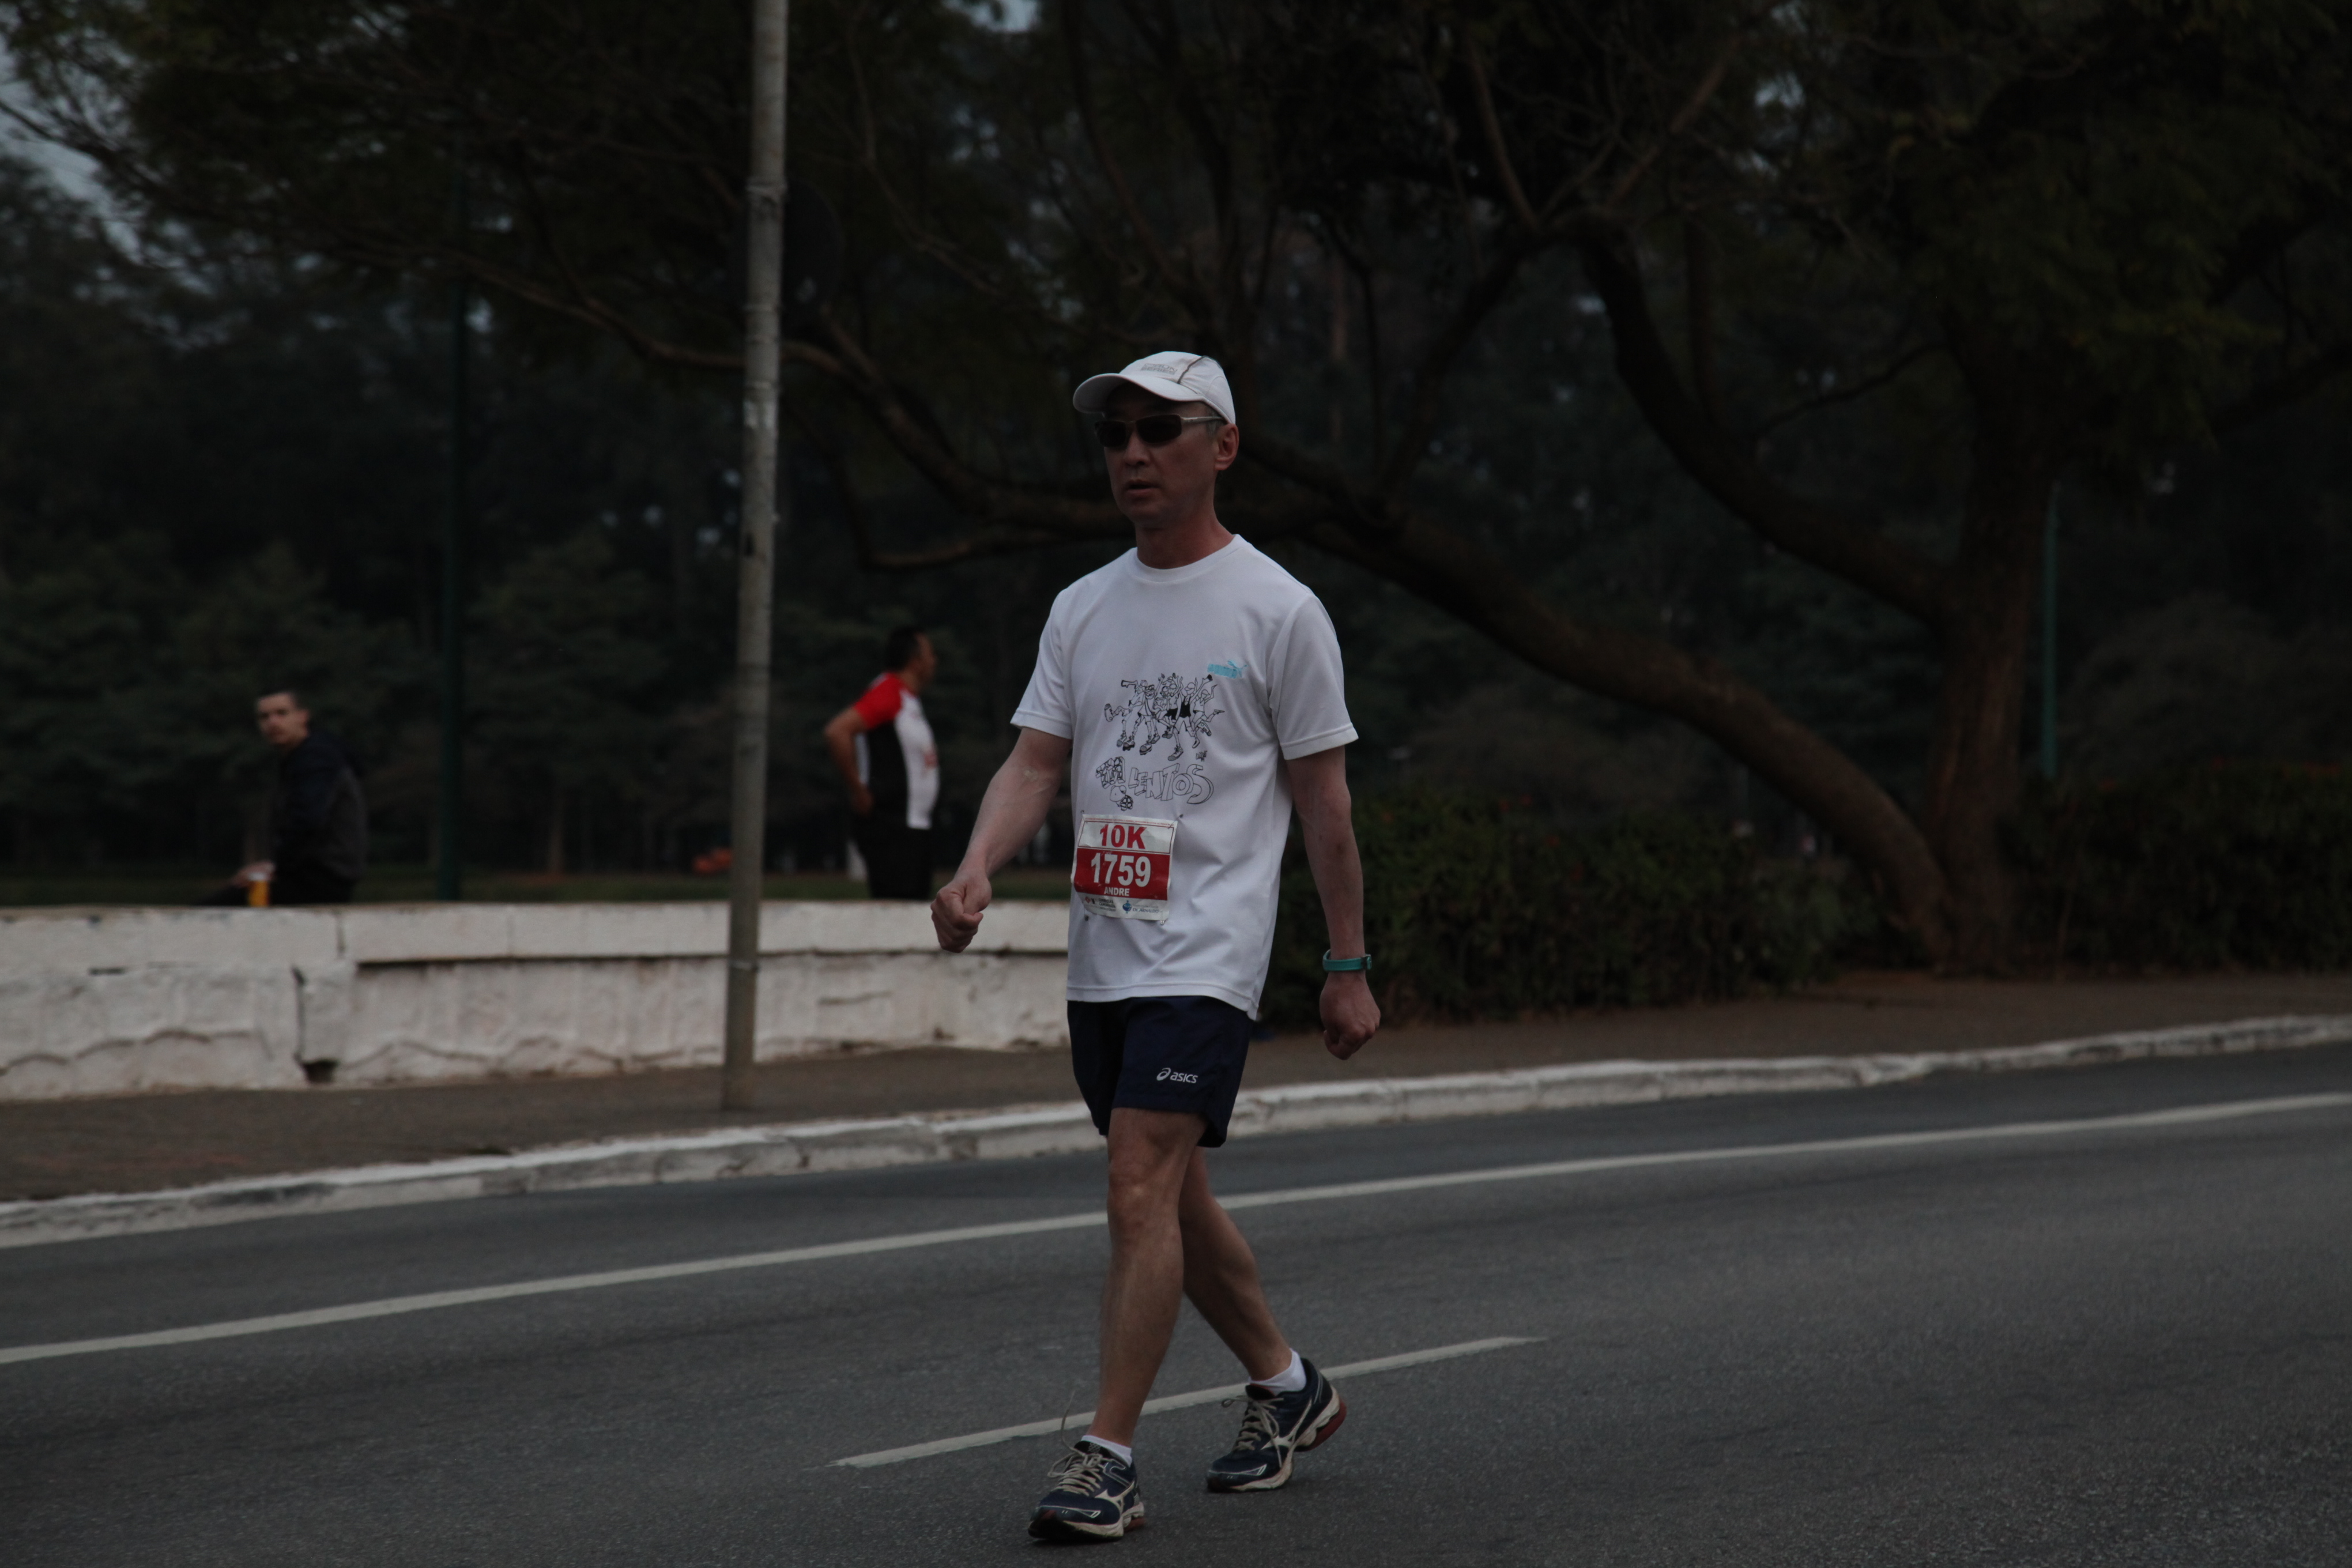bibtag: (1062, 807, 1181, 929)
